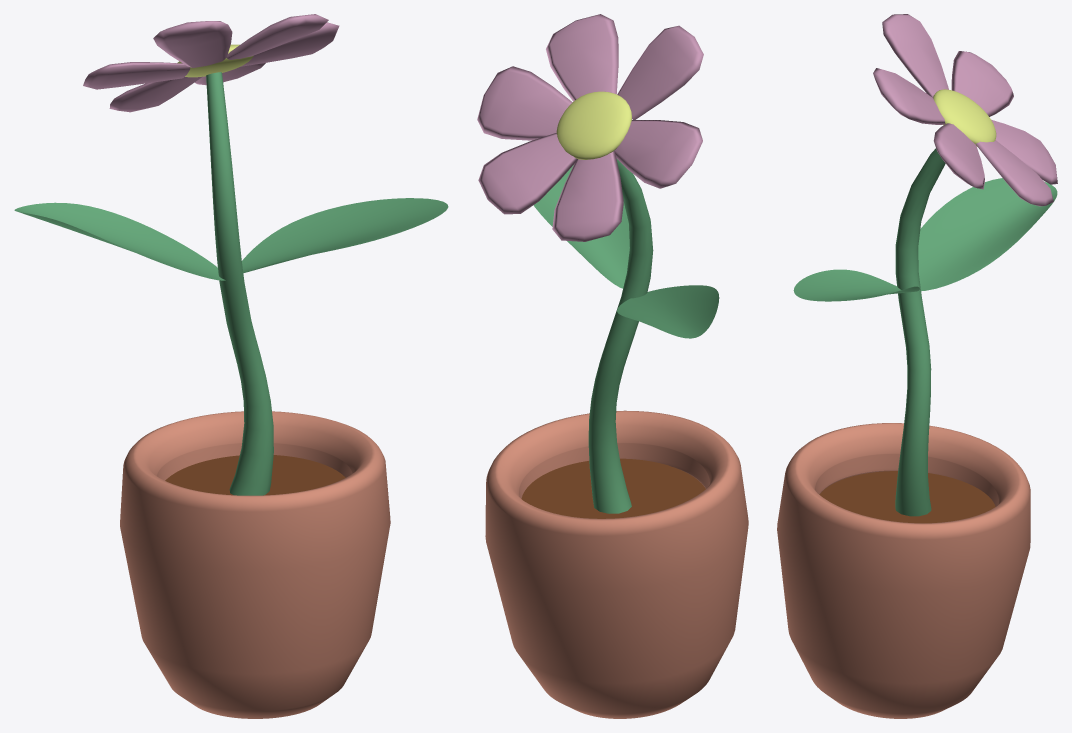
Rendered from potted_plant_887092793d0b.glb.
The picture shows the model from 3 angles, left to right: view 1: azimuth 30°, elevation 25°; view 2: azimuth 150°, elevation 25°; view 3: azimuth 270°, elevation 25°; orthographic projection. The views are drawn at different scales.
Parts seen in each view (by area): view 1: Object_3, Object_5, Object_6, Object_2, Object_4; view 2: Object_3, Object_6, Object_5, Object_2, Object_4; view 3: Object_3, Object_5, Object_6, Object_2, Object_4.
Part boxes in pixels (<box>): Object_3: <box>120,411,390,718</box>; Object_5: <box>14,72,448,495</box>; Object_6: <box>83,14,339,112</box>; Object_2: <box>165,455,345,495</box>; Object_4: <box>177,44,253,77</box>; Object_3: <box>485,410,748,718</box>; Object_6: <box>477,14,703,241</box>; Object_5: <box>533,159,719,513</box>; Object_2: <box>521,458,705,518</box>; Object_4: <box>556,91,631,159</box>; Object_3: <box>777,423,1030,718</box>; Object_5: <box>793,148,1057,516</box>; Object_6: <box>873,14,1057,206</box>; Object_2: <box>819,471,995,523</box>; Object_4: <box>933,89,996,146</box>.
Size of the model in its own units: 571 by 1234 by 480.
5 materials, 1 textured.
